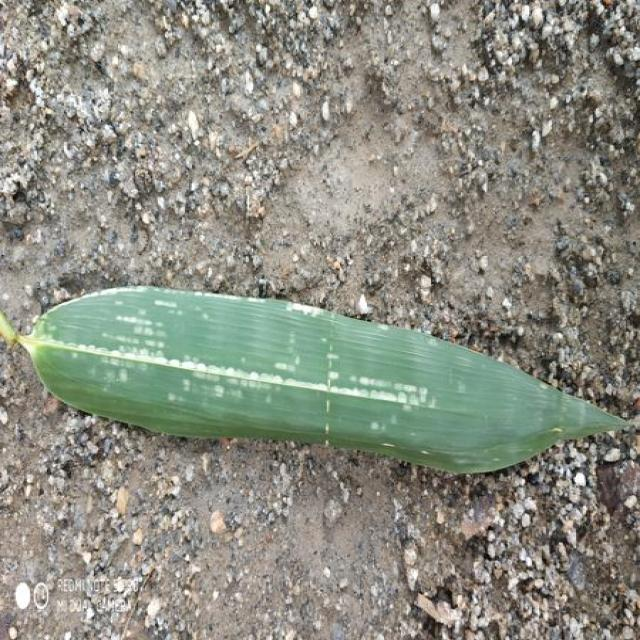Bamboo: (2, 286, 627, 472)
defectedBamboo: (17, 302, 490, 406)
